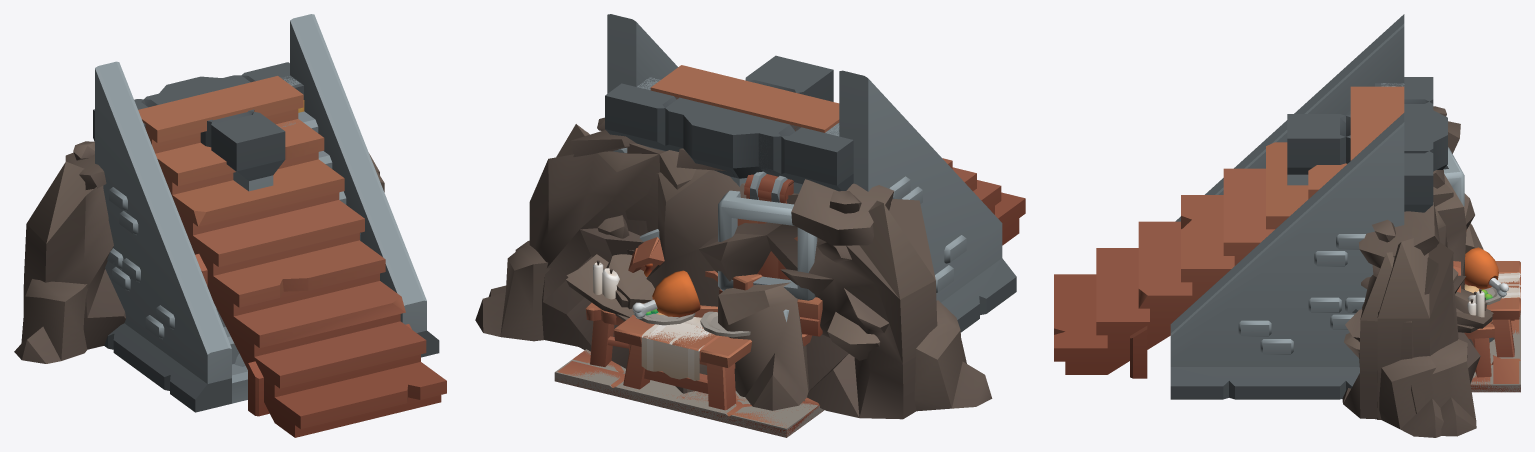
The model's file is dungeon_props.glb.
3 renders of one model, left to right at view 1: azimuth 30°, elevation 25°; view 2: azimuth 150°, elevation 25°; view 3: azimuth 270°, elevation 25°, orthographic. The views are drawn at different scales.
Parts seen in each view (by area): view 1: stairs_wood, stairs, rubble_large, wall_corner, wall, wall_arched, wall_half, wall_endcap; view 2: rubble_large, rubble_half, stairs, stairs_wood, wall, box_stacked, floor_tile_large, table_long, wall_pillar, table_long_tablecloth, wall_half, wall_corner (+8 smaller); view 3: stairs, stairs_wood, rubble_half, rubble_large, wall_corner, wall, table_long, table_long_decorated_A, bed_decorated, floor_wood_large, wall_pillar, floor_tile_large (+4 smaller).
Boxes of the visible parts, box(x1,y1,x2,y2) form: stairs_wood: box(138, 76, 446, 437); stairs: box(95, 14, 439, 412); rubble_large: box(14, 141, 384, 363); wall_corner: box(150, 86, 285, 191); wall: box(93, 62, 303, 141); wall_arched: box(93, 62, 303, 140); wall_half: box(220, 62, 302, 88); wall_endcap: box(192, 75, 250, 94); rubble_large: box(488, 132, 992, 419); rubble_half: box(475, 117, 695, 368); stairs: box(607, 14, 1016, 332); stairs_wood: box(650, 65, 1025, 245); wall: box(606, 75, 853, 193); box_stacked: box(675, 171, 817, 393); floor_tile_large: box(554, 349, 824, 437); table_long: box(613, 315, 752, 410); wall_pillar: box(673, 103, 802, 192); table_long_tablecloth: box(614, 323, 727, 380); wall_half: box(605, 84, 723, 151); wall_corner: box(709, 55, 833, 191); stairs: box(1170, 14, 1404, 399); stairs_wood: box(1054, 86, 1404, 378); rubble_half: box(1359, 184, 1492, 436); rubble_large: box(1342, 106, 1493, 437); wall_corner: box(1287, 104, 1420, 185); wall: box(1375, 77, 1433, 212); table_long: box(1486, 261, 1520, 357); table_long_decorated_A: box(1464, 247, 1508, 304); bed_decorated: box(1464, 289, 1494, 377); floor_wood_large: box(1470, 319, 1520, 392); wall_pillar: box(1404, 104, 1447, 171); floor_tile_large: box(1471, 311, 1520, 392).
Size of the model in its own units: 5.69 by 4.14 by 5.6.
1 material, 1 textured.
